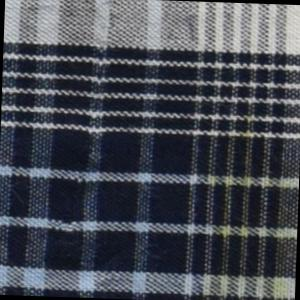Stain: (209, 107, 300, 300)
